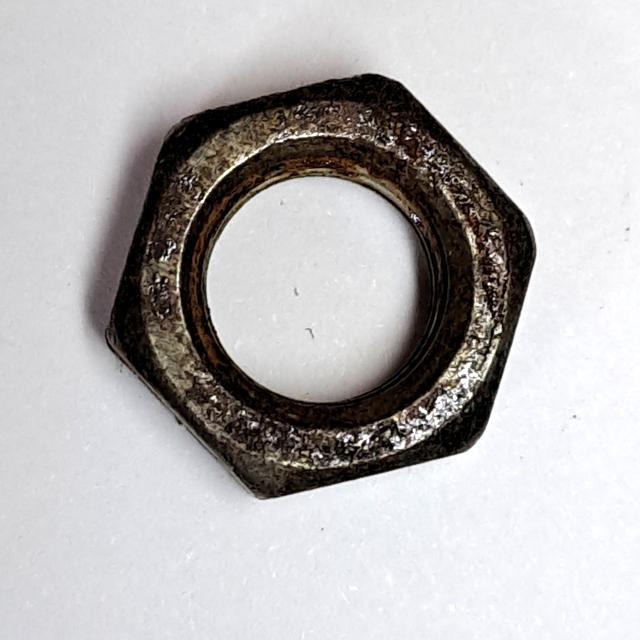Rust: (96, 66, 547, 509)
